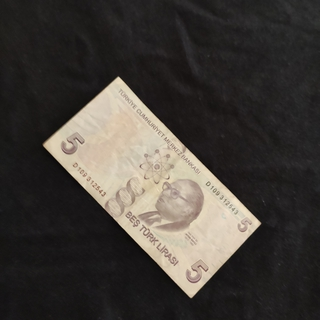5TLBack: (41, 74, 264, 300)
